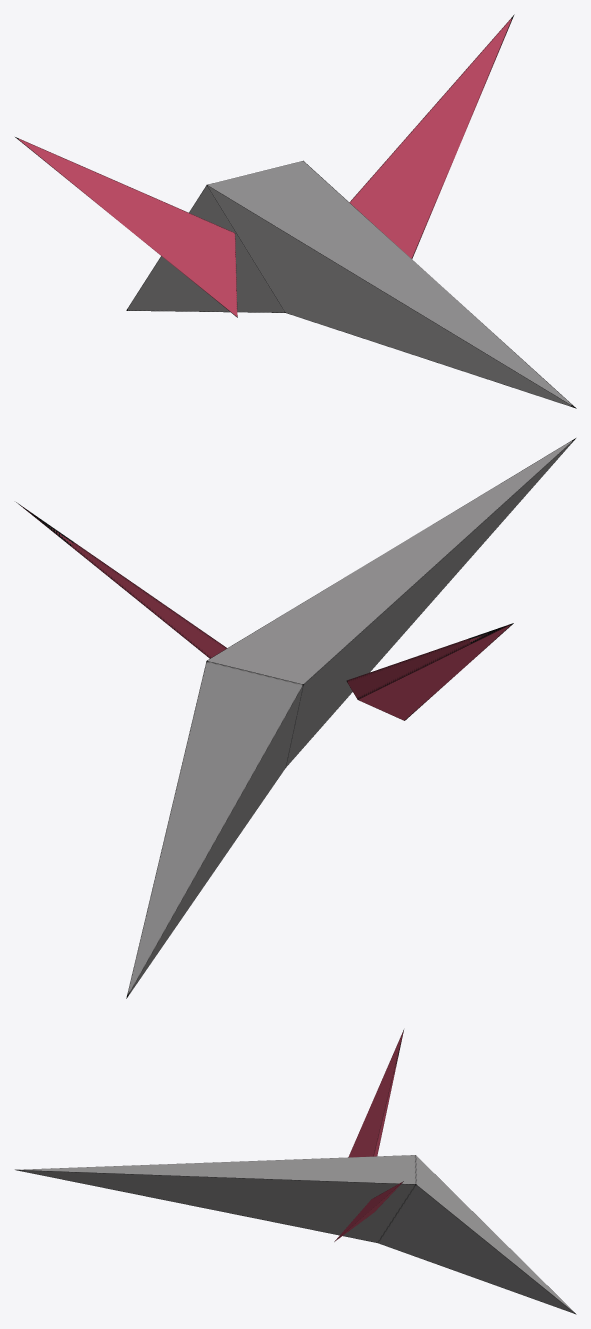
The model's file is enemy.obj.
The picture shows the model from 3 angles, top to bottom: view 1: azimuth 30°, elevation 25°; view 2: azimuth 150°, elevation 25°; view 3: azimuth 270°, elevation 25°; orthographic projection. The views are drawn at different scales.
Visible parts, largest first — view 1: 機体_円錐, 翼_円錐.002; view 2: 機体_円錐, 翼_円錐.002; view 3: 機体_円錐, 翼_円錐.002.
Part boxes in pixels (x1,y1,x2,y2): 機体_円錐: [126, 160, 576, 408]; 翼_円錐.002: [15, 14, 514, 317]; 機体_円錐: [126, 438, 575, 998]; 翼_円錐.002: [16, 502, 513, 720]; 機体_円錐: [15, 1155, 576, 1314]; 翼_円錐.002: [334, 1030, 403, 1241].
Bounding box in the file's own units: 4.46 × 2.87 × 6.96.
Materials: 2 (2 with a texture image).
